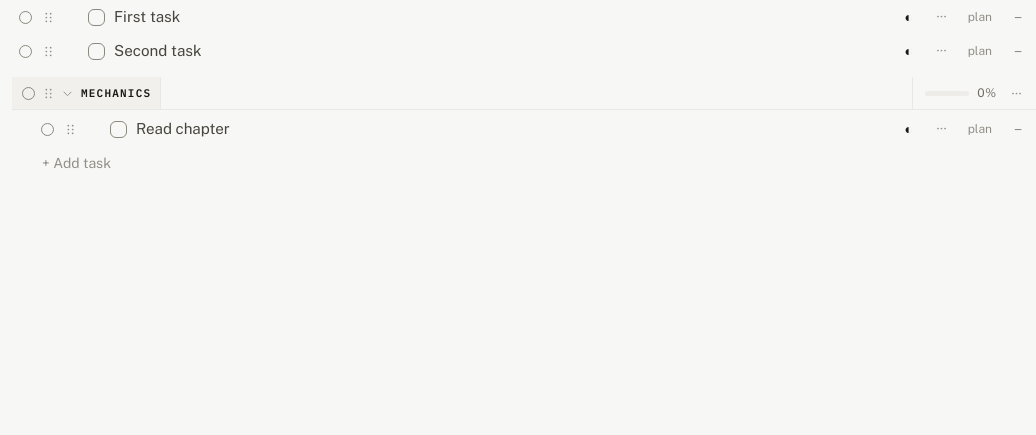
the ⋯ menu › teaches its own shortcuts
Click the button named "Actions for \"Second task\"": (942, 51) [930,39,954,63]
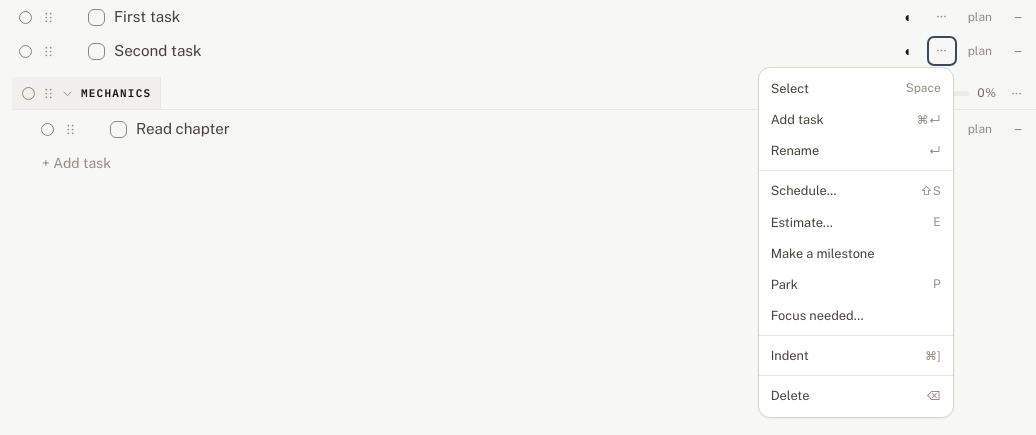
Expected: the menu item "Indent ⌘]" is shown, [759,340,953,372]
Expected: the menu item "Estimate… E" is shown, [759,206,953,238]
Expected: the menu item "Schedule… ⇧S" is shown, [759,175,953,206]
